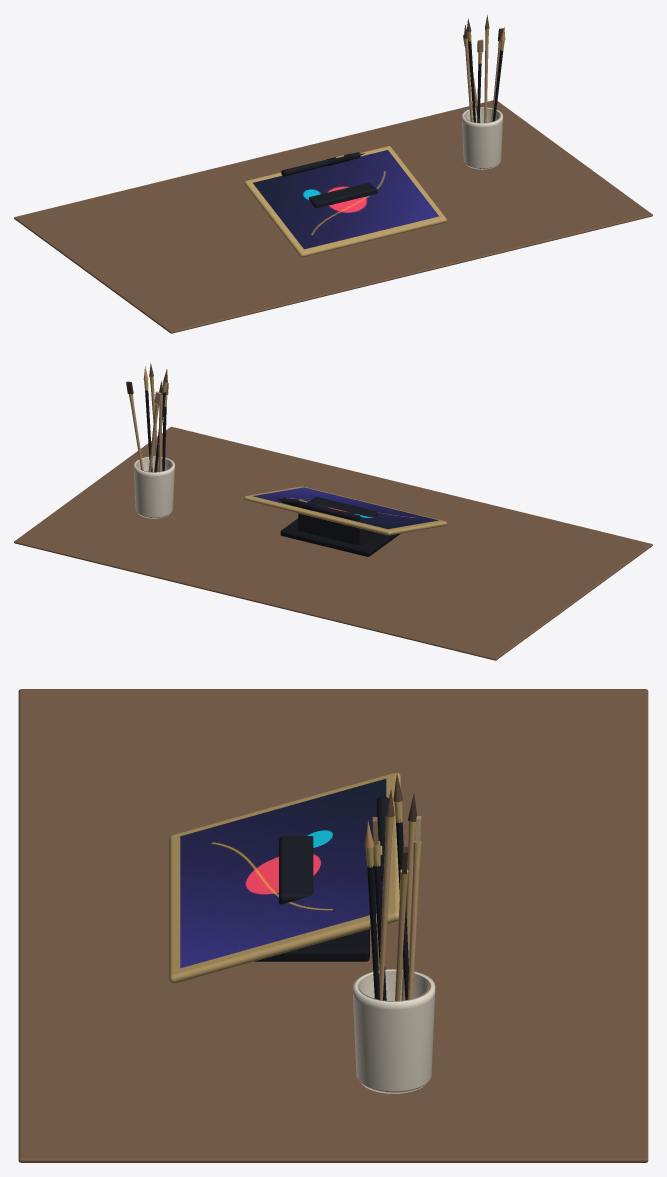
Rendered from atelier-artist-set-ipad-oak.glb.
The picture shows the model from 3 angles, top to bottom: view 1: azimuth 30°, elevation 25°; view 2: azimuth 150°, elevation 25°; view 3: azimuth 270°, elevation 25°; orthographic projection. The views are drawn at different scales.
Size of the model in its own units: 0.92 by 0.277 by 0.52.
14 materials, 1 textured.
